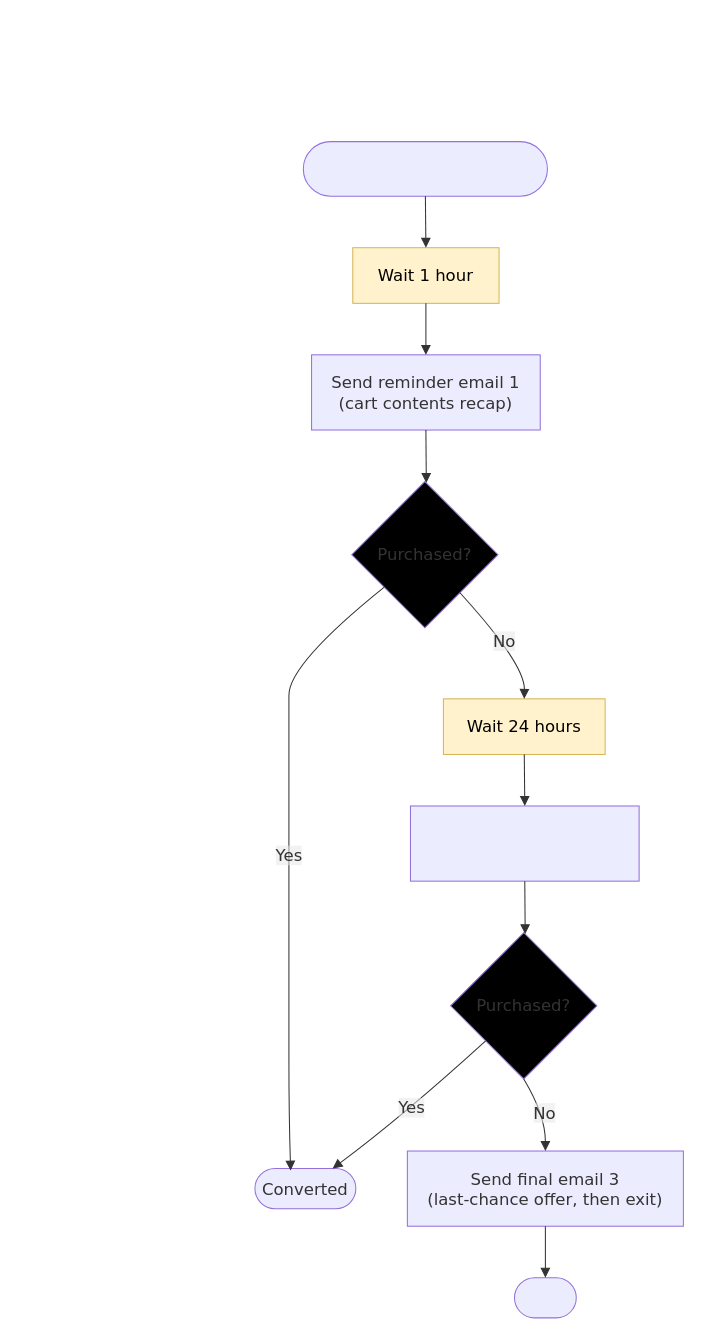
Image size: 701x1336. Some labels were removed from this diagram. The box of each missing label's shape, as (x1, y1, x2, y2) in pixels:
Cart abandoned (user exits with items in cart): (302, 141, 547, 196)
End: (513, 1277, 576, 1318)
Send reminder email 2 (adds discount code): (409, 805, 639, 881)
